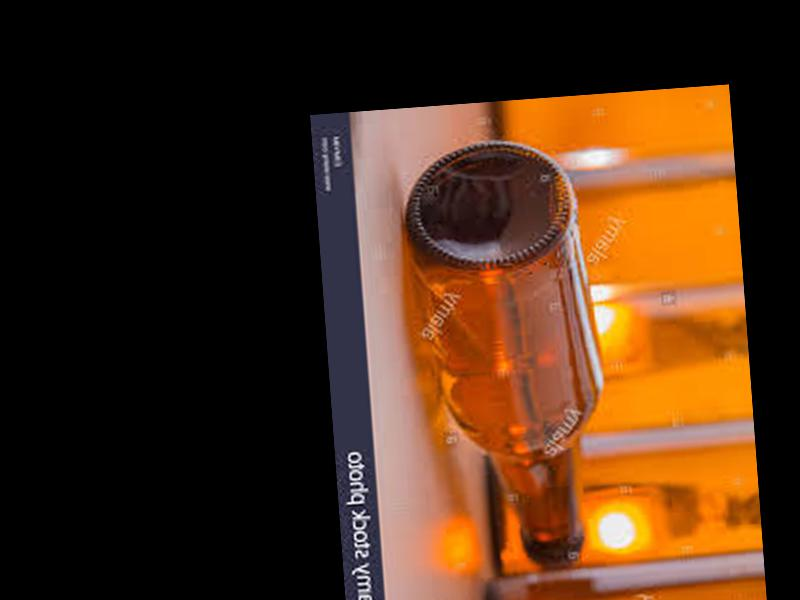Beer: (391, 132, 618, 571)
